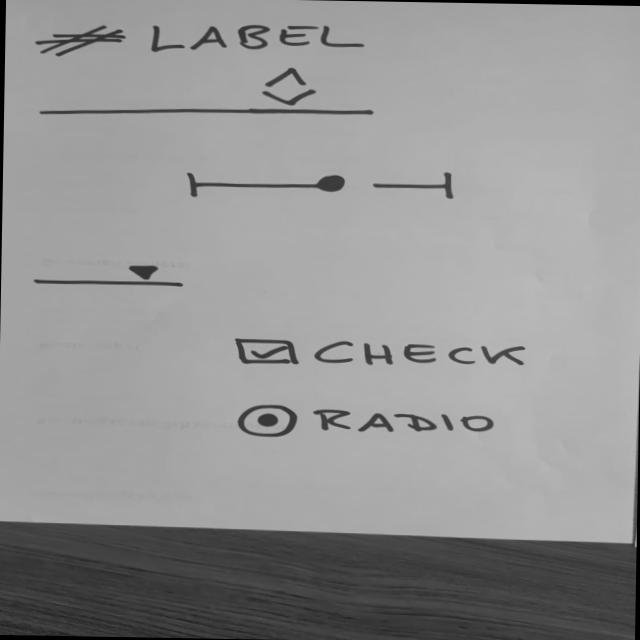checkbox: (229, 334, 540, 374)
label: (32, 16, 373, 64)
number-input: (30, 60, 381, 124)
radio: (233, 402, 504, 444)
select: (30, 261, 191, 292)
slider: (181, 165, 464, 204)
